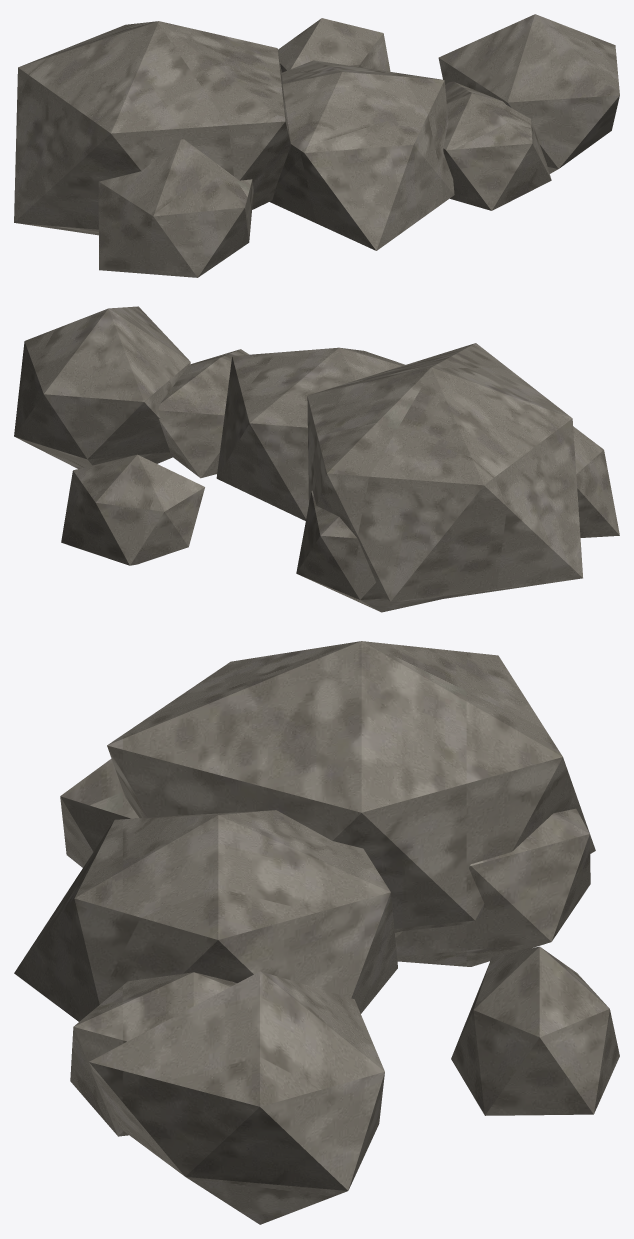
File: boulder_pile.glb
3 renders of one model, top to bottom at view 1: azimuth 30°, elevation 25°; view 2: azimuth 150°, elevation 25°; view 3: azimuth 270°, elevation 25°, orthographic. The views are drawn at different scales.
Parts seen in each view (by area): view 1: Boulder_Pile; view 2: Boulder_Pile; view 3: Boulder_Pile.
Part boxes in pixels (x1,y1,x2,y2): Boulder_Pile: (14,14,619,277); Boulder_Pile: (14,306,619,612); Boulder_Pile: (14,641,619,1224).
Size of the model in its own units: 2.88 by 1.08 by 1.76.
Materials: 1 (1 with a texture image).
